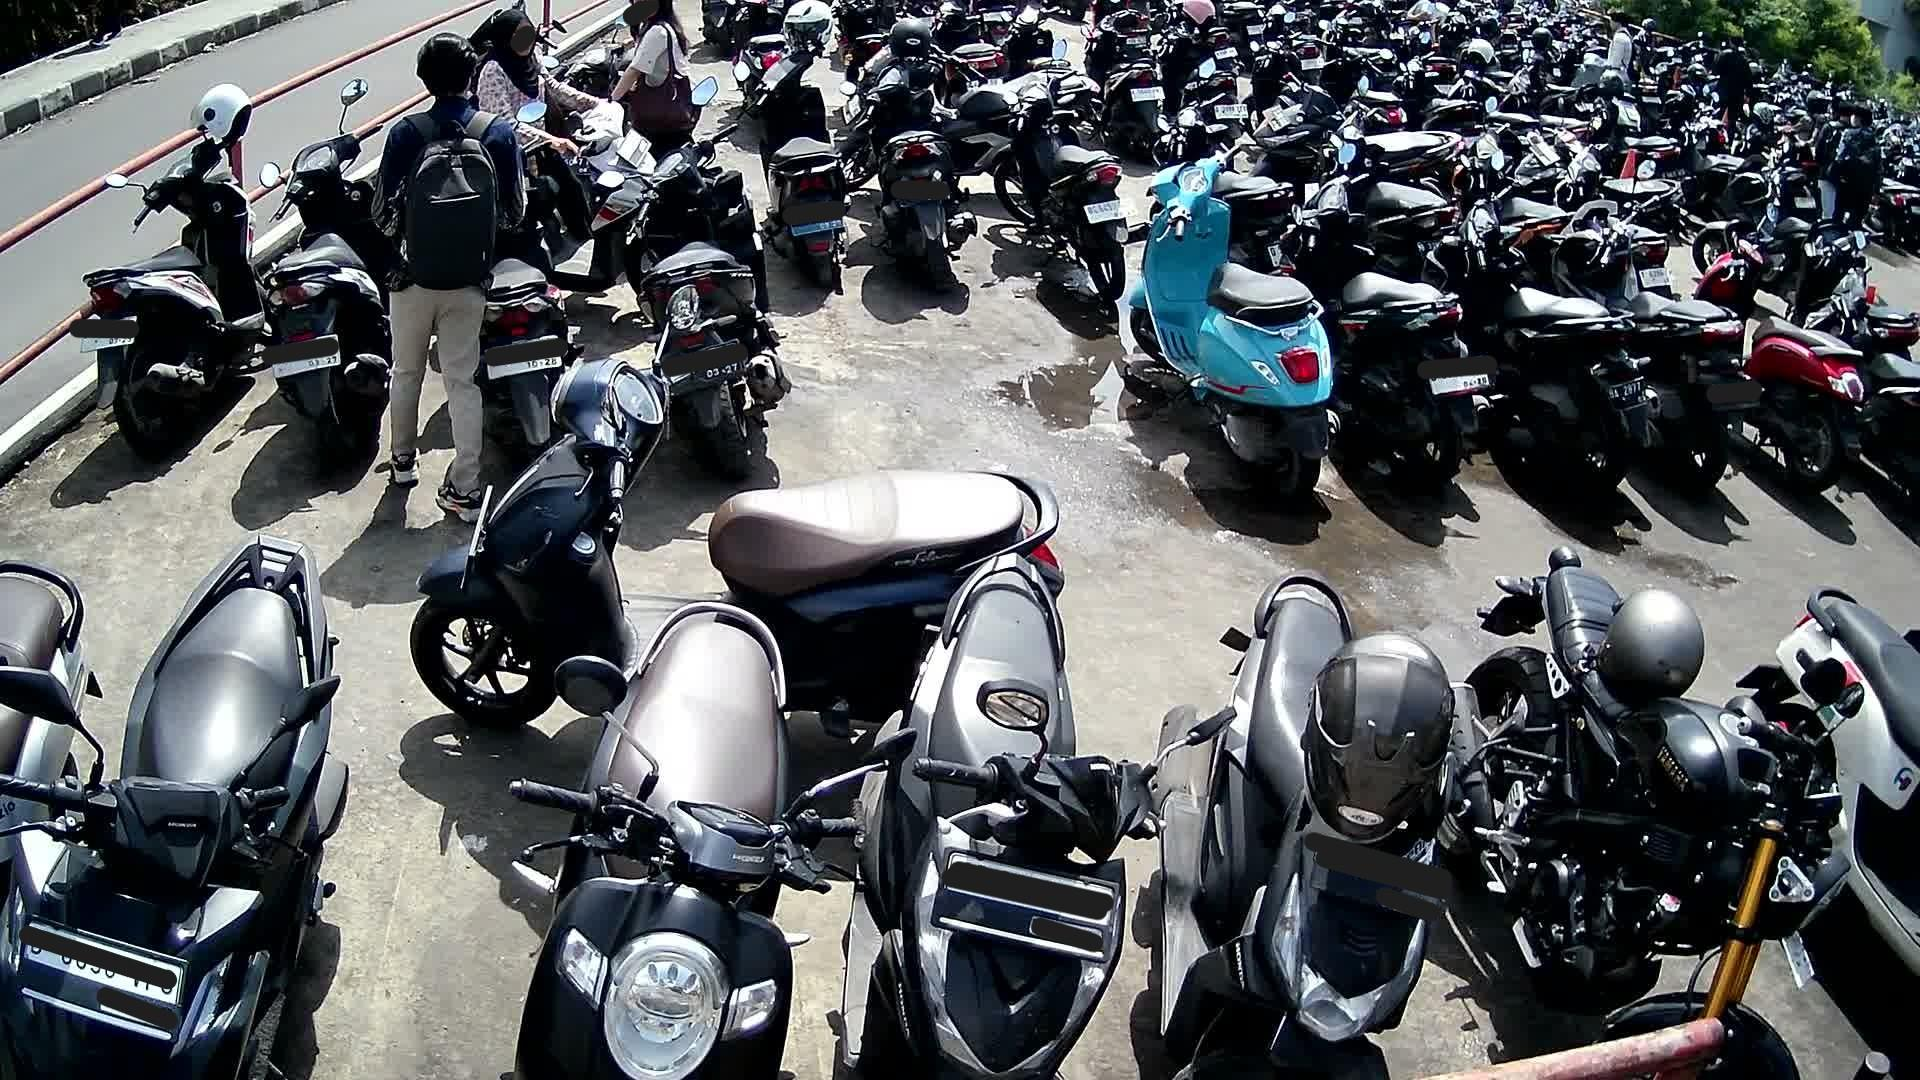motorcycle: (410, 284, 1068, 731), (1443, 546, 1853, 1080), (844, 551, 1236, 1080), (0, 535, 351, 1080), (506, 600, 860, 1080), (1156, 574, 1477, 1080), (601, 79, 798, 484), (1724, 584, 1920, 985), (1130, 141, 1341, 512), (1267, 146, 1489, 495), (1412, 189, 1663, 492), (74, 124, 273, 459), (1542, 202, 1763, 498), (257, 78, 396, 460), (0, 550, 108, 1011), (1691, 223, 1869, 495), (483, 195, 589, 476), (1801, 262, 1920, 506)
